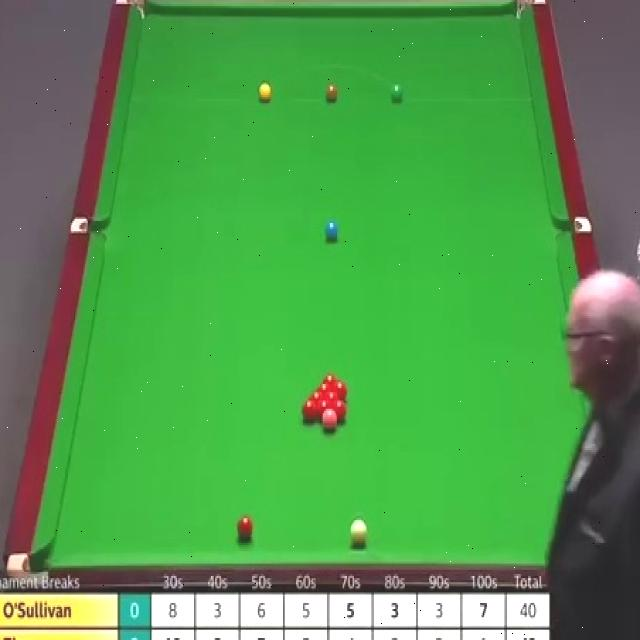blue-ball: (324, 220, 340, 244)
brown-ball: (325, 84, 339, 105)
green-ball: (391, 83, 405, 105)
pink-ball: (322, 408, 339, 432)
red-ball: (301, 399, 318, 424), (236, 515, 253, 540), (332, 400, 348, 424), (317, 400, 332, 423), (334, 381, 347, 402), (308, 389, 326, 401), (315, 380, 333, 392), (324, 390, 340, 402), (322, 372, 338, 382)
white-ball: (349, 518, 368, 548)
yellow-ball: (258, 82, 272, 103)
